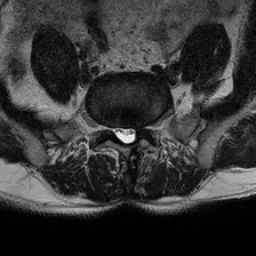CCS_stenosis: (123, 121, 130, 150)
LFS_severe_stenosis: (137, 122, 145, 139)
LLS_normal: (130, 122, 137, 147)
RFS_severe_stenosis: (108, 118, 116, 139)
RLS_normal: (116, 122, 123, 147)
